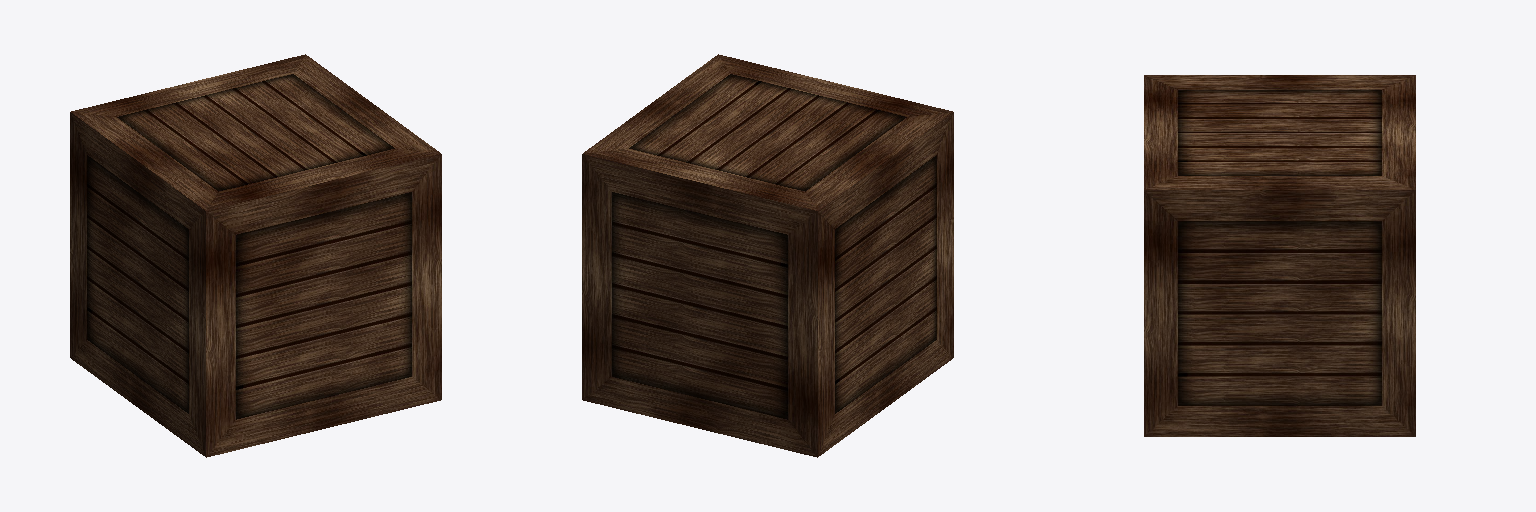
3 views of the same model, side by side, from view 1: azimuth 30°, elevation 25°; view 2: azimuth 150°, elevation 25°; view 3: azimuth 270°, elevation 25° (orthographic).
Parts seen in each view (by area): view 1: Cube; view 2: Cube; view 3: Cube.
Boxes of the visible parts, x1=… form: Cube: x1=70, y1=54, x2=441, y2=457; Cube: x1=582, y1=54, x2=953, y2=457; Cube: x1=1144, y1=75, x2=1415, y2=436.
Size of the model in its own units: 2 by 2 by 2.
Materials: 1 (1 with a texture image).